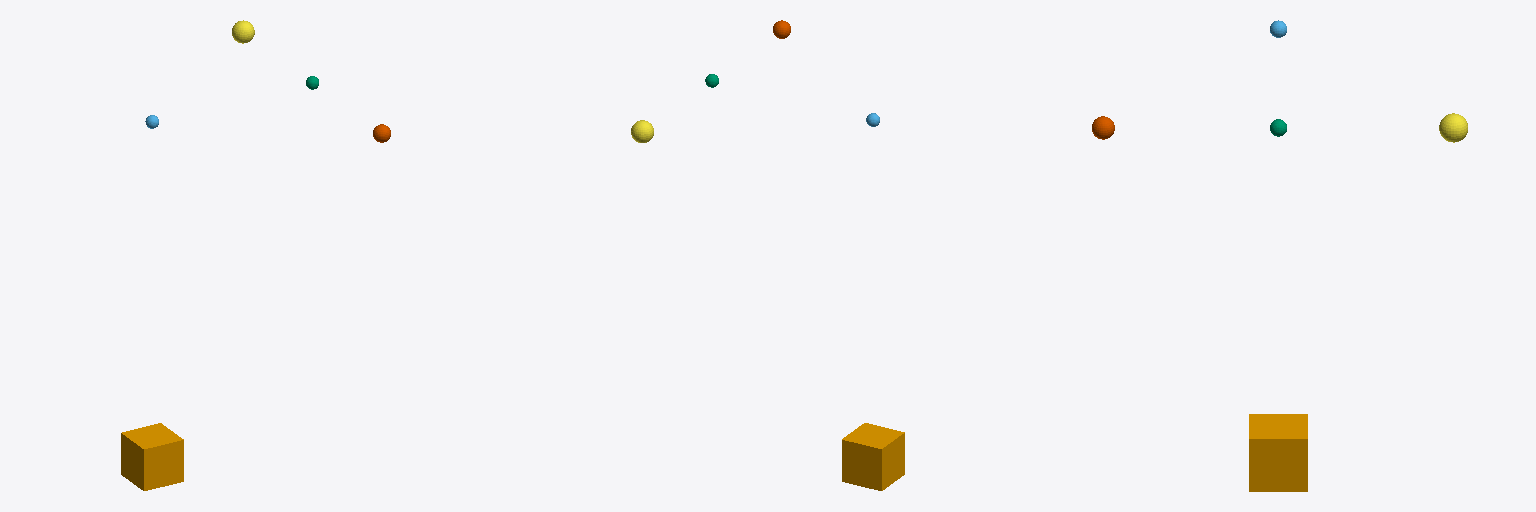
URDF robot description (polyline_test_robot):
<?xml version="1.0"?>
<robot name="polyline_test_robot">
  <link name="base_link"><visual><geometry><box size="0.1 0.1 0.1"/></geometry></visual><collision><geometry><box size="0.1 0.1 0.1"/></geometry></collision></link>
  <link name="left_L1"><visual><geometry><sphere radius="0.015"/></geometry></visual><collision><geometry><sphere radius="0.015"/></geometry></collision></link>
  <joint name="left_J1" type="prismatic"><parent link="base_link"/><child link="left_L1"/><origin xyz="0 0 0.8"/><axis xyz="1 0 0"/><limit lower="-1" upper="1" effort="10" velocity="0.1"/></joint>
  <link name="left_L2"><visual><geometry><sphere radius="0.015"/></geometry></visual><collision><geometry><sphere radius="0.015"/></geometry></collision></link>
  <joint name="left_J2" type="prismatic"><parent link="left_L1"/><child link="left_L2"/><origin xyz="0.4 0 0"/><axis xyz="0 1 0"/><limit lower="-1" upper="1" effort="10" velocity="0.1"/></joint>
  <link name="left_L3"><visual><geometry><sphere radius="0.025"/></geometry></visual><collision><geometry><sphere radius="0.025"/></geometry></collision></link>
  <joint name="left_J3" type="prismatic"><parent link="left_L2"/><child link="left_L3"/><origin xyz="0 0.3 0"/><axis xyz="0 0 1"/><limit lower="-1" upper="1" effort="10" velocity="0.1"/></joint>
  <link name="tool_left"/>
  <joint name="left_tool_fixed" type="fixed"><parent link="left_L3"/><child link="tool_left"/><origin xyz="0 0 -0.1"/></joint>
  <link name="right_L1"><visual><geometry><sphere radius="0.02"/></geometry></visual><collision><geometry><sphere radius="0.02"/></geometry></collision></link>
  <joint name="right_J1" type="prismatic"><parent link="base_link"/><child link="right_L1"/><origin xyz="0.4 -0.3 0.8"/><axis xyz="1 0 0"/><limit lower="-1" upper="1" effort="10" velocity="0.1"/></joint>
  <link name="tool_right"/>
  <joint name="right_tool_fixed" type="fixed"><parent link="right_L1"/><child link="tool_right"/><origin xyz="0 0 -0.1"/></joint>
</robot>

--- Facts derived from the render (not from the file) ---
The picture shows the robot from 3 angles, left to right: view 1: azimuth 30°, elevation 25°; view 2: azimuth 150°, elevation 25°; view 3: azimuth 270°, elevation 25°; orthographic projection.
Model polyline_test_robot with 7 links and 6 joints (4 prismatic, 2 fixed), rooted at base_link, posed every joint at zero.
Visible links, largest first — view 1: base_link; view 2: base_link; view 3: base_link, left_L3.
Boxes of the visible links, x1,y1,x2,y2 form: base_link: (121, 423, 183, 490); base_link: (842, 423, 904, 490); base_link: (1249, 414, 1307, 491); left_L3: (1439, 113, 1467, 142).
Size in the robot's own frame: 0.475 by 0.645 by 0.875 metres.
Geometry: primitives only (box / cylinder / sphere), no mesh files.
